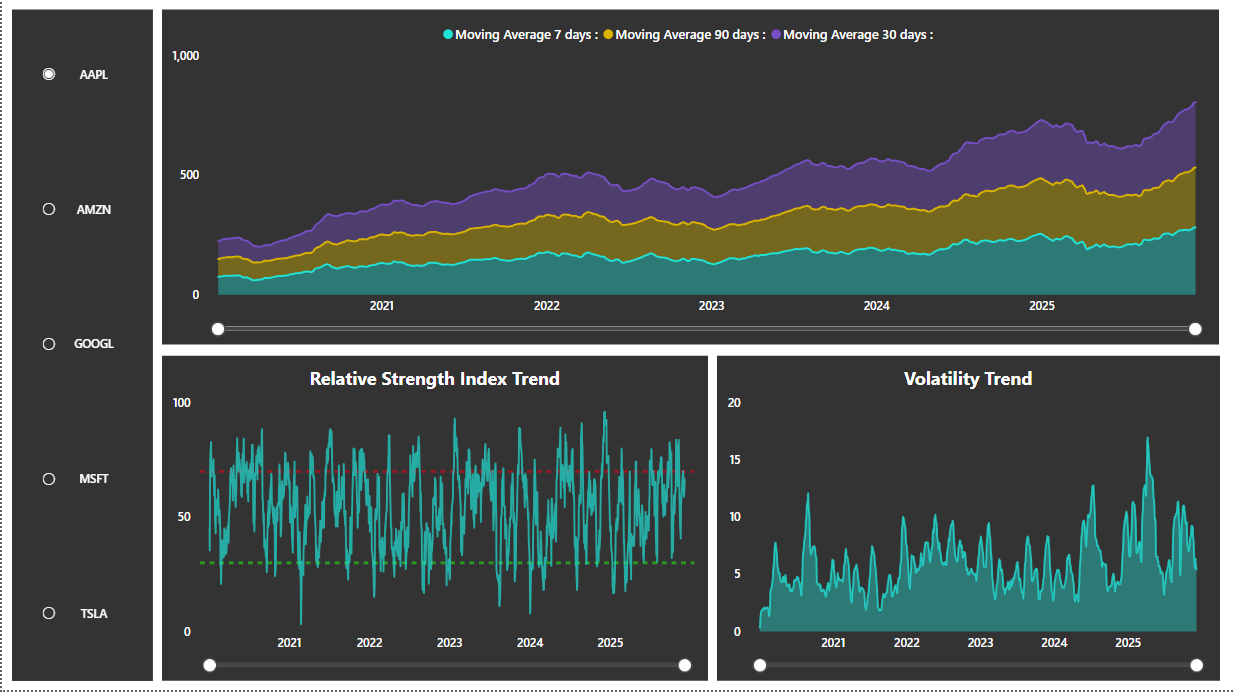

What the dashboard file says about the page in this screenshot:
{"tool":"powerbi","page":{"name":"Technical Indicators","canvas":[1280,720],"ordinal":1},"visuals":[{"type":"advancedSlicerVisual","fields":{"Values":["forecast_results.Ticker"]},"box":[10.3,12.8,146.2,697.4],"z":0},{"type":"stackedAreaChart","fields":{"Category":["stock_data.date"],"Y":["Sum(stock_data.ma_7)","Sum(stock_data.ma_90)","Sum(stock_data.ma_30)"]},"box":[166.7,12.8,1097.4,347.4],"z":1000},{"type":"lineChart","title":"Relative Strength Index Trend","fields":{"Category":["stock_data.date"],"Y":["Sum(stock_data.rsi)"]},"box":[166.7,373.1,566.7,337.2],"z":2000},{"type":"areaChart","title":"Volatility Trend","fields":{"Category":["stock_data.date"],"Y":["Sum(stock_data.volatility)"]},"box":[742.3,373.1,521.8,337.2],"z":3000}]}

Visuals, with their boxes in screenshot pixels (x1, y1, x2, y2), scaled from the page's 1280x720 canvas onto the 1234x692 screenshot:
advancedSlicerVisual - forecast_results.Ticker: 10,12,151,683
stackedAreaChart - stock_data.date x Sum(stock_data.ma_7): 161,12,1219,346
"Relative Strength Index Trend" lineChart: 161,359,707,683
"Volatility Trend" areaChart: 716,359,1219,683
